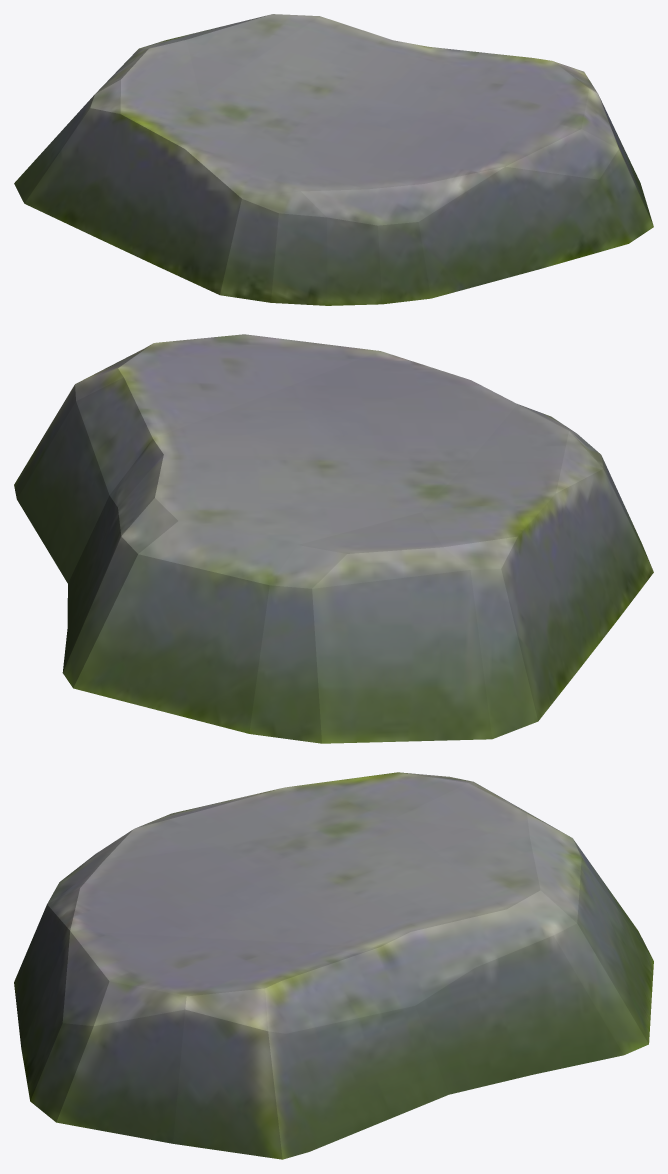
File: pebble_round_2.gltf
3 renders of one model, top to bottom at view 1: azimuth 30°, elevation 25°; view 2: azimuth 150°, elevation 25°; view 3: azimuth 270°, elevation 25°, orthographic. The views are drawn at different scales.
Visible parts, largest first — view 1: Pebble_Round_2; view 2: Pebble_Round_2; view 3: Pebble_Round_2.
Part boxes in pixels (x1,y1,x2,y2): Pebble_Round_2: (14,14,653,305); Pebble_Round_2: (14,334,653,743); Pebble_Round_2: (14,772,653,1159).
Size of the model in its own units: 0.4495 by 0.0942 by 0.4111.
Materials: 1 (1 with a texture image).
